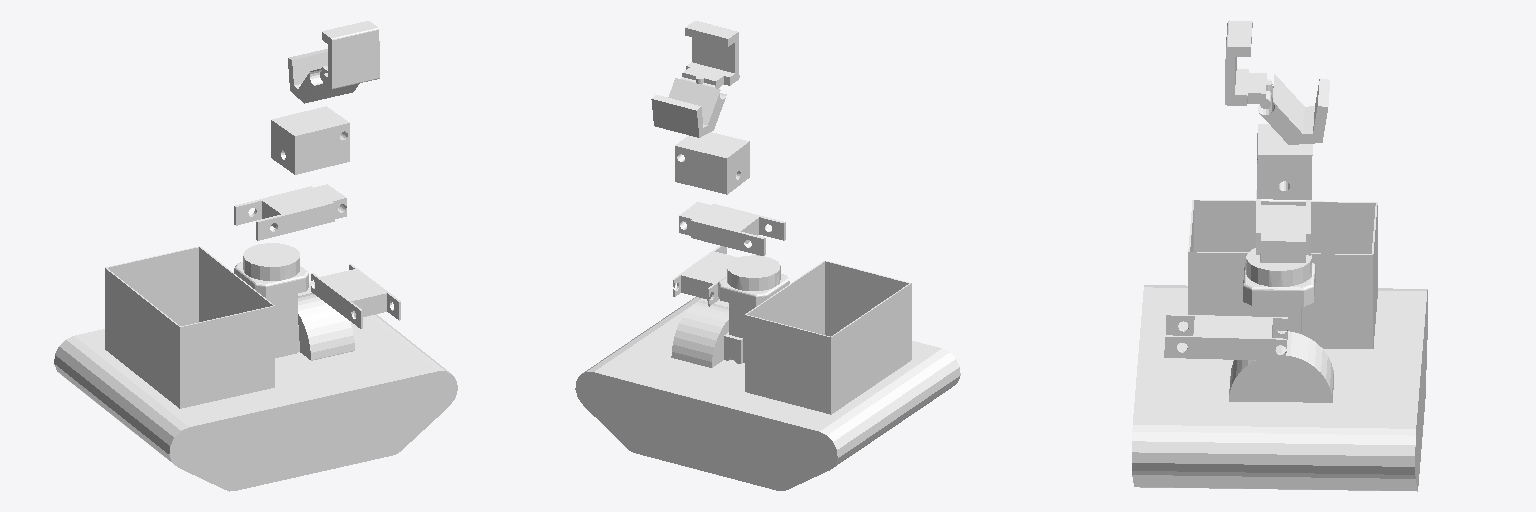
robot.urdf — collectorarmv2:
<?xml version="1.0" encoding="utf-8"?>
<!-- This URDF was automatically created by SolidWorks to URDF Exporter! Originally created by [author] ([email redacted]) 
     Commit Version: 1.6.0-4-g7f85cfe  Build Version: 1.6.7995.38578
     For more information, please see http://wiki.ros.org/sw_urdf_exporter -->
<robot
  name="collectorarmv2">
  <link
    name="base_link">
    <inertial>
      <origin
        xyz="-0.000431995749256772 -2.75875484660618E-06 -0.0406498758316452"
        rpy="0 0 0" />
      <mass
        value="10.9600818997221" />
      <inertia
        ixx="0.0945300643837808"
        ixy="-0.000223188735937972"
        ixz="0.000290844995432054"
        iyy="0.129474221651259"
        iyz="1.85713367578688E-06"
        izz="0.19332472651431" />
    </inertial>
    <visual>
      <origin
        xyz="0 0 0"
        rpy="0 0 0" />
      <geometry>
        <mesh
          filename="package://collectorarmv2/meshes/base_link.STL" />
      </geometry>
      <material
        name="">
        <color
          rgba="1 1 1 1" />
      </material>
    </visual>
    <collision>
      <origin
        xyz="0 0 0"
        rpy="0 0 0" />
      <geometry>
        <mesh
          filename="package://collectorarmv2/meshes/base_link.STL" />
      </geometry>
    </collision>
  </link>
  <link
    name="arm_base">
    <inertial>
      <origin
        xyz="1.1157619086071E-18 0.0360865793498005 7.99712430050987E-19"
        rpy="0 0 0" />
      <mass
        value="0.665047517627195" />
      <inertia
        ixx="0.0007819945070614"
        ixy="2.47995010879609E-21"
        ixz="-6.7762635780344E-21"
        iyy="0.000931687532031113"
        iyz="-2.1398259955003E-20"
        izz="0.000801321710505508" />
    </inertial>
    <visual>
      <origin
        xyz="0 0 0"
        rpy="0 0 0" />
      <geometry>
        <mesh
          filename="package://collectorarmv2/meshes/arm_base.STL" />
      </geometry>
      <material
        name="">
        <color
          rgba="1 1 1 1" />
      </material>
    </visual>
    <collision>
      <origin
        xyz="0 0 0"
        rpy="0 0 0" />
      <geometry>
        <mesh
          filename="package://collectorarmv2/meshes/arm_base.STL" />
      </geometry>
    </collision>
  </link>
  <joint
    name="arm_base"
    type="revolute">
    <origin
      xyz="0.1103 0.00070444 0"
      rpy="1.5721 -0.015939 -1.6007" />
    <parent
      link="base_link" />
    <child
      link="arm_base" />
    <axis
      xyz="0 1 0" />
    <limit
      lower="-2.09"
      upper="2.09"
      effort="1.96"
      velocity="2.09" />
  </joint>
  <link
    name="joint1">
    <inertial>
      <origin
        xyz="0.0527192038585681 -1.54815407248513E-17 -2.68030681275532E-19"
        rpy="0 0 0" />
      <mass
        value="0.121429178051326" />
      <inertia
        ixx="4.05821278174089E-05"
        ixy="-5.40513513381651E-21"
        ixz="1.58348001003703E-21"
        iyy="0.000117162142598077"
        iyz="1.86347248395946E-20"
        izz="8.9345592287246E-05" />
    </inertial>
    <visual>
      <origin
        xyz="0 0 0"
        rpy="0 0 0" />
      <geometry>
        <mesh
          filename="package://collectorarmv2/meshes/joint1.STL" />
      </geometry>
      <material
        name="">
        <color
          rgba="1 1 1 1" />
      </material>
    </visual>
    <collision>
      <origin
        xyz="0 0 0"
        rpy="0 0 0" />
      <geometry>
        <mesh
          filename="package://collectorarmv2/meshes/joint1.STL" />
      </geometry>
    </collision>
  </link>
  <joint
    name="joint1"
    type="revolute">
    <origin
      xyz="0 0.0735 0"
      rpy="0 0 1.5708" />
    <parent
      link="arm_base" />
    <child
      link="joint1" />
    <axis
      xyz="0 0 -1" />
    <limit
      lower="-1.57"
      upper="1.57"
      effort="1.96"
      velocity="2.09" />
  </joint>
  <link
    name="joint2">
    <inertial>
      <origin
        xyz="0.0464329078590103 1.32340629148846E-17 1.32916896812596E-18"
        rpy="0 0 0" />
      <mass
        value="0.131283140376496" />
      <inertia
        ixx="4.5709310266337E-05"
        ixy="-3.34002577594654E-20"
        ixz="8.06631896476912E-21"
        iyy="0.000115443121587368"
        iyz="9.3907557455089E-07"
        izz="0.000146855785066471" />
    </inertial>
    <visual>
      <origin
        xyz="0 0 0"
        rpy="0 0 0" />
      <geometry>
        <mesh
          filename="package://collectorarmv2/meshes/joint2.STL" />
      </geometry>
      <material
        name="">
        <color
          rgba="1 1 1 1" />
      </material>
    </visual>
    <collision>
      <origin
        xyz="0 0 0"
        rpy="0 0 0" />
      <geometry>
        <mesh
          filename="package://collectorarmv2/meshes/joint2.STL" />
      </geometry>
    </collision>
  </link>
  <joint
    name="joint2"
    type="revolute">
    <origin
      xyz="0.1045 0 0"
      rpy="1.6007 0 0" />
    <parent
      link="joint1" />
    <child
      link="joint2" />
    <axis
      xyz="0 0.99955 -0.029855" />
    <limit
      lower="-2.09"
      upper="2.09"
      effort="1.96"
      velocity="2.09" />
  </joint>
  <link
    name="joint3">
    <inertial>
      <origin
        xyz="-0.0307503516421674 0.000310250693801396 -0.0103873457589432"
        rpy="0 0 0" />
      <mass
        value="0.219866762368024" />
      <inertia
        ixx="0.000115202012236034"
        ixy="-6.07681086360931E-08"
        ixz="2.03454615293962E-06"
        iyy="0.000159900046989999"
        iyz="-3.8367647008022E-07"
        izz="0.000172734264135135" />
    </inertial>
    <visual>
      <origin
        xyz="0 0 0"
        rpy="0 0 0" />
      <geometry>
        <mesh
          filename="package://collectorarmv2/meshes/joint3.STL" />
      </geometry>
      <material
        name="">
        <color
          rgba="1 1 1 1" />
      </material>
    </visual>
    <collision>
      <origin
        xyz="0 0 0"
        rpy="0 0 0" />
      <geometry>
        <mesh
          filename="package://collectorarmv2/meshes/joint3.STL" />
      </geometry>
    </collision>
  </link>
  <joint
    name="joint3"
    type="revolute">
    <origin
      xyz="0.099 0 0"
      rpy="3.1416 0 3.1416" />
    <parent
      link="joint2" />
    <child
      link="joint3" />
    <axis
      xyz="0 0.99955 0.029855" />
    <limit
      lower="-2.09"
      upper="2.09"
      effort="1.96"
      velocity="2.09" />
  </joint>
  <link
    name="joint4">
    <inertial>
      <origin
        xyz="0.000277596491360573 0.0281145015949774 -0.0370410684025041"
        rpy="0 0 0" />
      <mass
        value="0.0877692802651216" />
      <inertia
        ixx="6.59352913098412E-05"
        ixy="5.20638090038389E-07"
        ixz="-5.88851151330627E-07"
        iyy="8.01839238032544E-05"
        iyz="1.1639614467936E-05"
        izz="4.38010426696893E-05" />
    </inertial>
    <visual>
      <origin
        xyz="0 0 0"
        rpy="0 0 0" />
      <geometry>
        <mesh
          filename="package://collectorarmv2/meshes/joint4.STL" />
      </geometry>
      <material
        name="">
        <color
          rgba="1 1 1 1" />
      </material>
    </visual>
    <collision>
      <origin
        xyz="0 0 0"
        rpy="0 0 0" />
      <geometry>
        <mesh
          filename="package://collectorarmv2/meshes/joint4.STL" />
      </geometry>
    </collision>
  </link>
  <joint
    name="joint4"
    type="revolute">
    <origin
      xyz="-0.073972 0.00062695 -0.020991"
      rpy="1.5708 -0.029859 1.5708" />
    <parent
      link="joint3" />
    <child
      link="joint4" />
    <axis
      xyz="0 0 -1" />
    <limit
      lower="-2.09"
      upper="2.09"
      effort="1.96"
      velocity="2.09" />
  </joint>
  <link
    name="joint5">
    <inertial>
      <origin
        xyz="0.0107453852867667 0.0401379763855604 -5.85469173142172E-18"
        rpy="0 0 0" />
      <mass
        value="0.106491203259952" />
      <inertia
        ixx="7.00067496887712E-05"
        ixy="-1.26099042598823E-05"
        ixz="1.6940658945086E-21"
        iyy="6.88640890322059E-05"
        iyz="-1.90582413132218E-21"
        izz="5.43700689342052E-05" />
    </inertial>
    <visual>
      <origin
        xyz="0 0 0"
        rpy="0 0 0" />
      <geometry>
        <mesh
          filename="package://collectorarmv2/meshes/joint5.STL" />
      </geometry>
      <material
        name="">
        <color
          rgba="1 1 1 1" />
      </material>
    </visual>
    <collision>
      <origin
        xyz="0 0 0"
        rpy="0 0 0" />
      <geometry>
        <mesh
          filename="package://collectorarmv2/meshes/joint5.STL" />
      </geometry>
    </collision>
  </link>
  <joint
    name="joint5"
    type="revolute">
    <origin
      xyz="0.0015 0 -0.0085873"
      rpy="-1.5708 0.71778 1.5708" />
    <parent
      link="joint4" />
    <child
      link="joint5" />
    <axis
      xyz="0 0 1" />
    <limit
      lower="0"
      upper="2.09"
      effort="1.96"
      velocity="2.09" />
  </joint>
</robot>

--- What the picture shows (computed from the rendered views, not written in the file) ---
3 views of the same robot in one strip: view 1: azimuth 30°, elevation 25°; view 2: azimuth 150°, elevation 25°; view 3: azimuth 270°, elevation 25° (orthographic).
Robot: collectorarmv2 — 7 links, 6 joints (6 revolute); root link base_link; default pose: every joint at zero.
Visible links, largest first — view 1: base_link, joint3, joint2, joint4, joint1, arm_base, joint5; view 2: base_link, joint3, joint2, arm_base, joint5, joint4, joint1; view 3: base_link, arm_base, joint1, joint3, joint2, joint5, joint4.
Link boxes in pixels (x1,y1,x2,y2): base_link: (54,243,457,491); joint3: (271,106,349,174); joint2: (234,184,346,240); joint4: (320,21,379,89); joint1: (311,264,400,328); arm_base: (298,293,354,360); joint5: (288,49,359,103); base_link: (575,255,960,490); joint3: (675,132,749,194); joint2: (679,202,785,255); arm_base: (671,301,742,367); joint5: (651,78,726,137); joint4: (681,21,739,88); joint1: (673,246,759,306); base_link: (1132,200,1427,491); arm_base: (1229,331,1333,402); joint1: (1164,314,1287,360); joint3: (1257,124,1312,199); joint2: (1256,190,1310,262); joint5: (1258,74,1329,144); joint4: (1225,20,1272,108).
Size in the robot's own frame: 0.4096 by 0.3135 by 0.529 metres.
7 mesh visuals loaded from 7 distinct referenced files (7 binary STL).